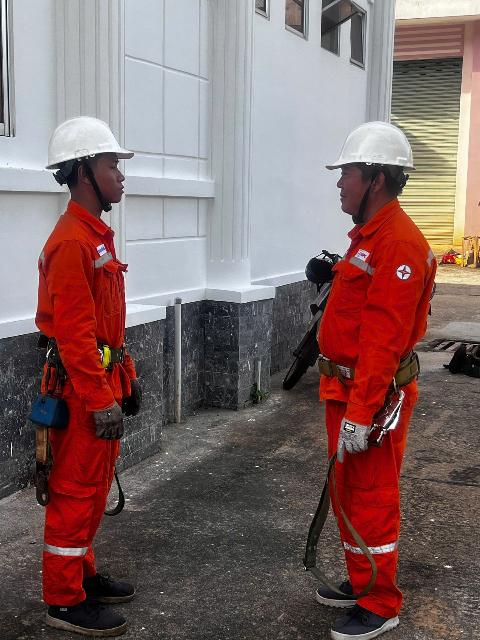gloves: (328, 417, 375, 459), (92, 405, 127, 449), (122, 374, 154, 419)
harness: (303, 343, 432, 401), (39, 327, 128, 379)
helmet: (23, 108, 137, 173), (330, 118, 424, 186)
shoes: (40, 575, 124, 637), (313, 587, 401, 640), (80, 554, 135, 606), (317, 575, 403, 606)
